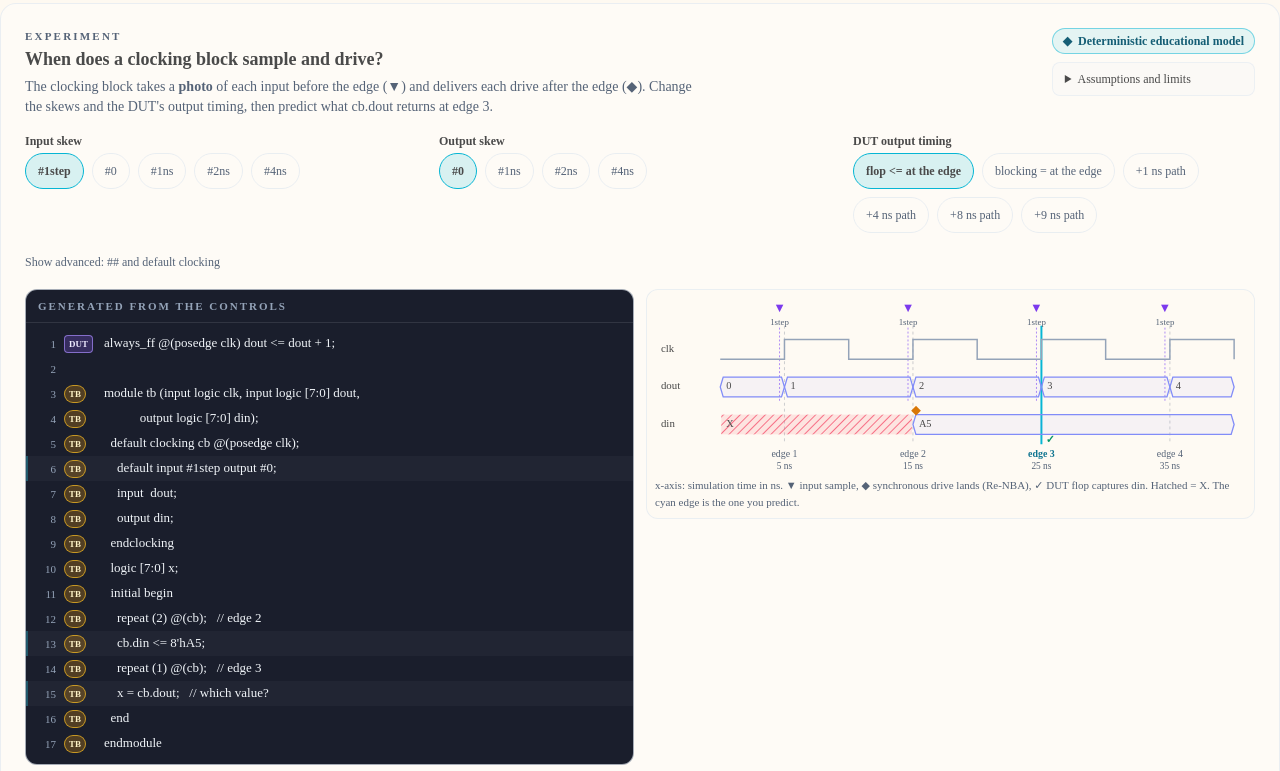
Scenario: ClockingBlockSkewVisualizer › explicit #0 input skew samples in Observed and returns the value updated at the edge
Click the radio button labelled "#0" below "Input skew" at coordinates (111, 170), box [92,152,130,188]
(page scrolled)
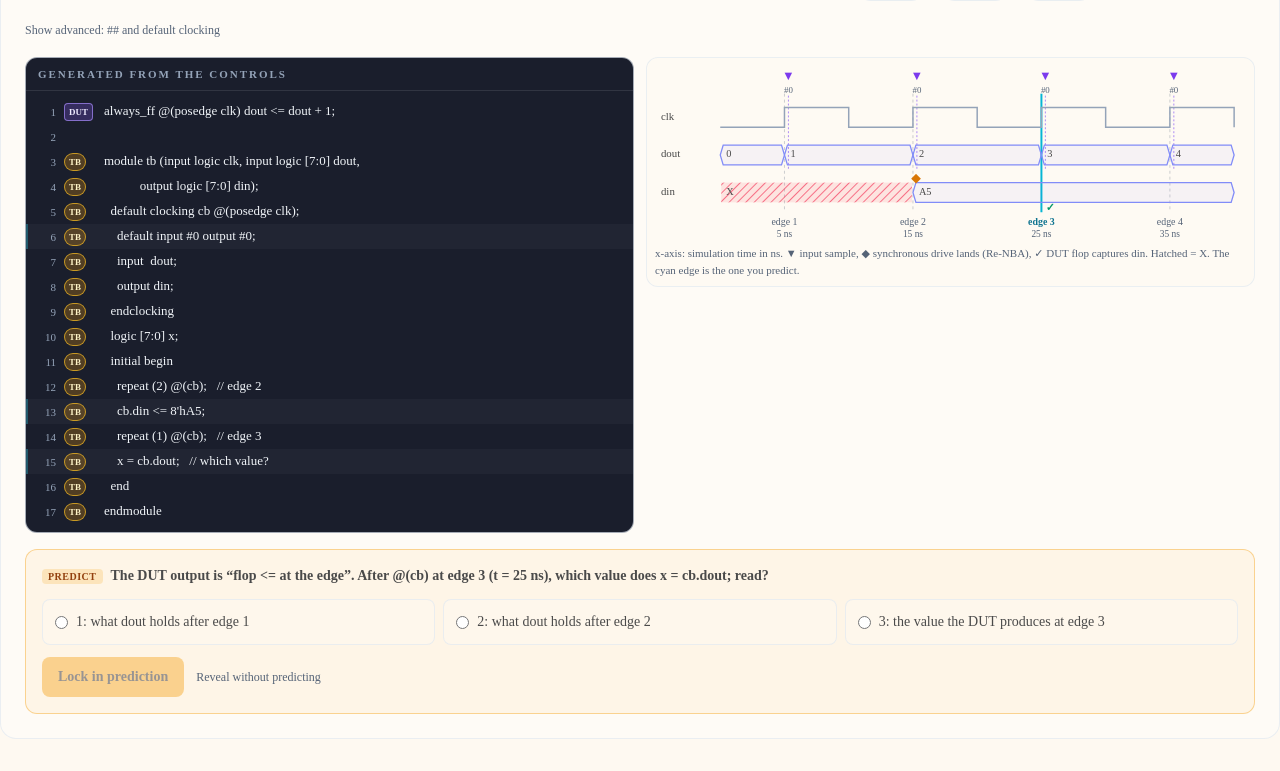
Click the radio button labelled "3: the value the DUT produces at edge 3" at coordinates (864, 622), box [858,616,871,629]
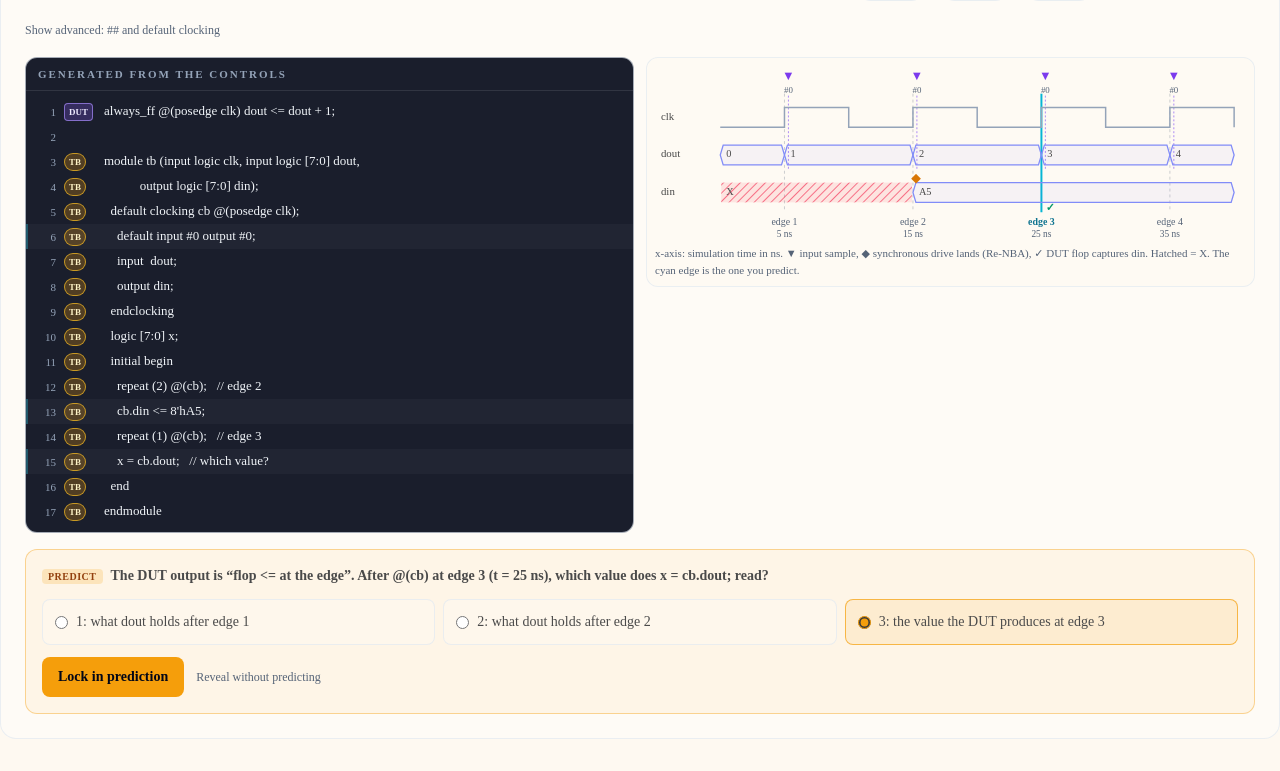
Click the button "Lock in prediction" at coordinates (113, 677), box [42,657,184,697]
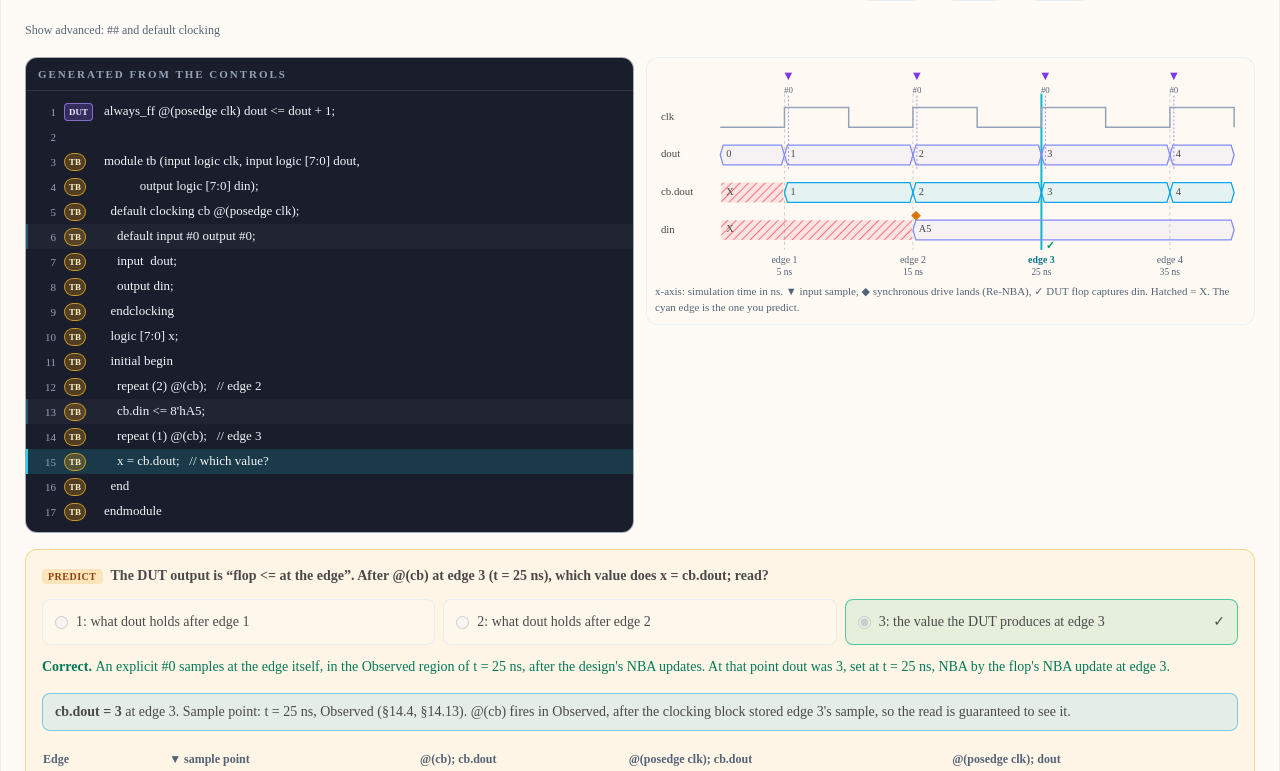
Check: the text "Correct." is shown, box [42,659,95,674]
